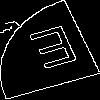E: (25, 25, 87, 79)
